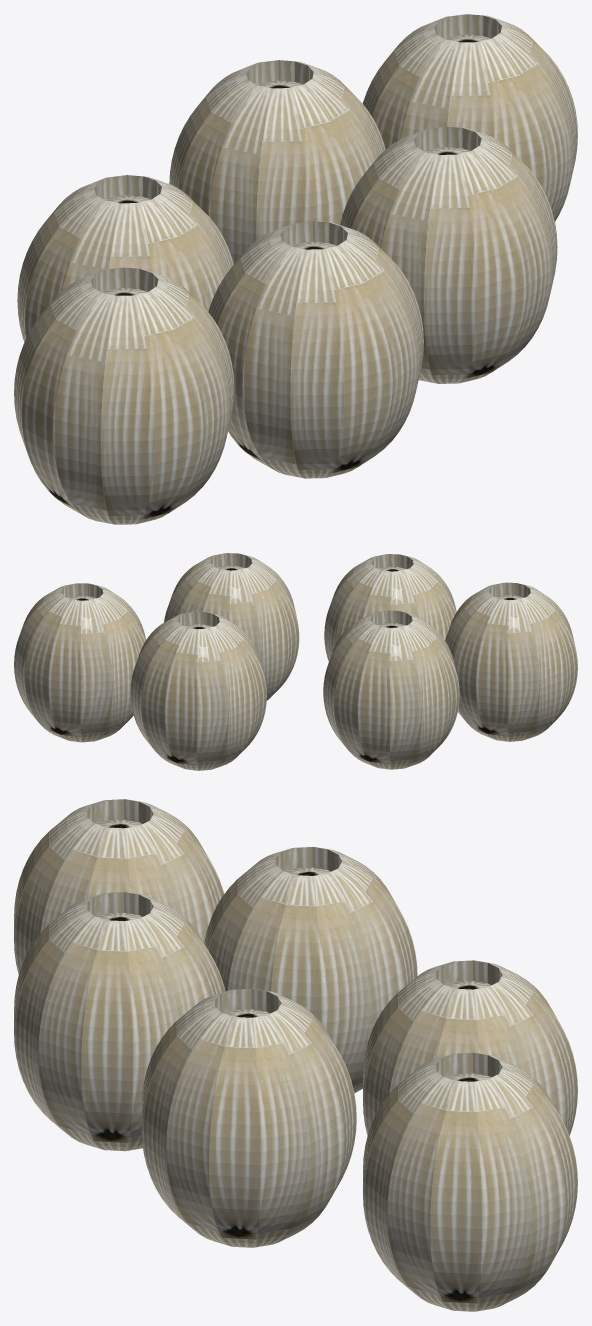
The model's file is huevos_colubra_dirce.fbx.
3 views of the same model, one above another, from view 1: azimuth 30°, elevation 25°; view 2: azimuth 150°, elevation 25°; view 3: azimuth 270°, elevation 25° (orthographic). The views are drawn at different scales.
Parts seen in each view (by area): view 1: Sphere, Sphere.001, Sphere.005, Sphere.003, Sphere.004, Sphere.002; view 2: Sphere.002, Sphere.003, Sphere, Sphere.004, Sphere.005, Sphere.001; view 3: Sphere.005, Sphere.004, Sphere.001, Sphere.002, Sphere.003, Sphere.
Part boxes in pixels (x1,y1,x2,y2): Sphere: (14,267,234,524); Sphere.001: (208,221,423,478); Sphere.005: (340,126,557,383); Sphere.003: (169,60,385,263); Sphere.004: (362,14,577,221); Sphere.002: (17,175,233,341); Sphere.002: (323,610,459,769); Sphere.003: (130,611,266,770); Sphere: (445,582,577,741); Sphere.004: (14,583,145,742); Sphere.005: (164,553,299,700); Sphere.001: (324,554,456,661); Sphere.005: (141,988,356,1247); Sphere.004: (363,1052,577,1311); Sphere.001: (14,892,225,1151); Sphere.002: (204,846,417,1093); Sphere.003: (363,960,577,1135); Sphere: (14,799,224,974).
Bounding box in the file's own units: 528 × 167 × 362.
1 material, 1 textured.
